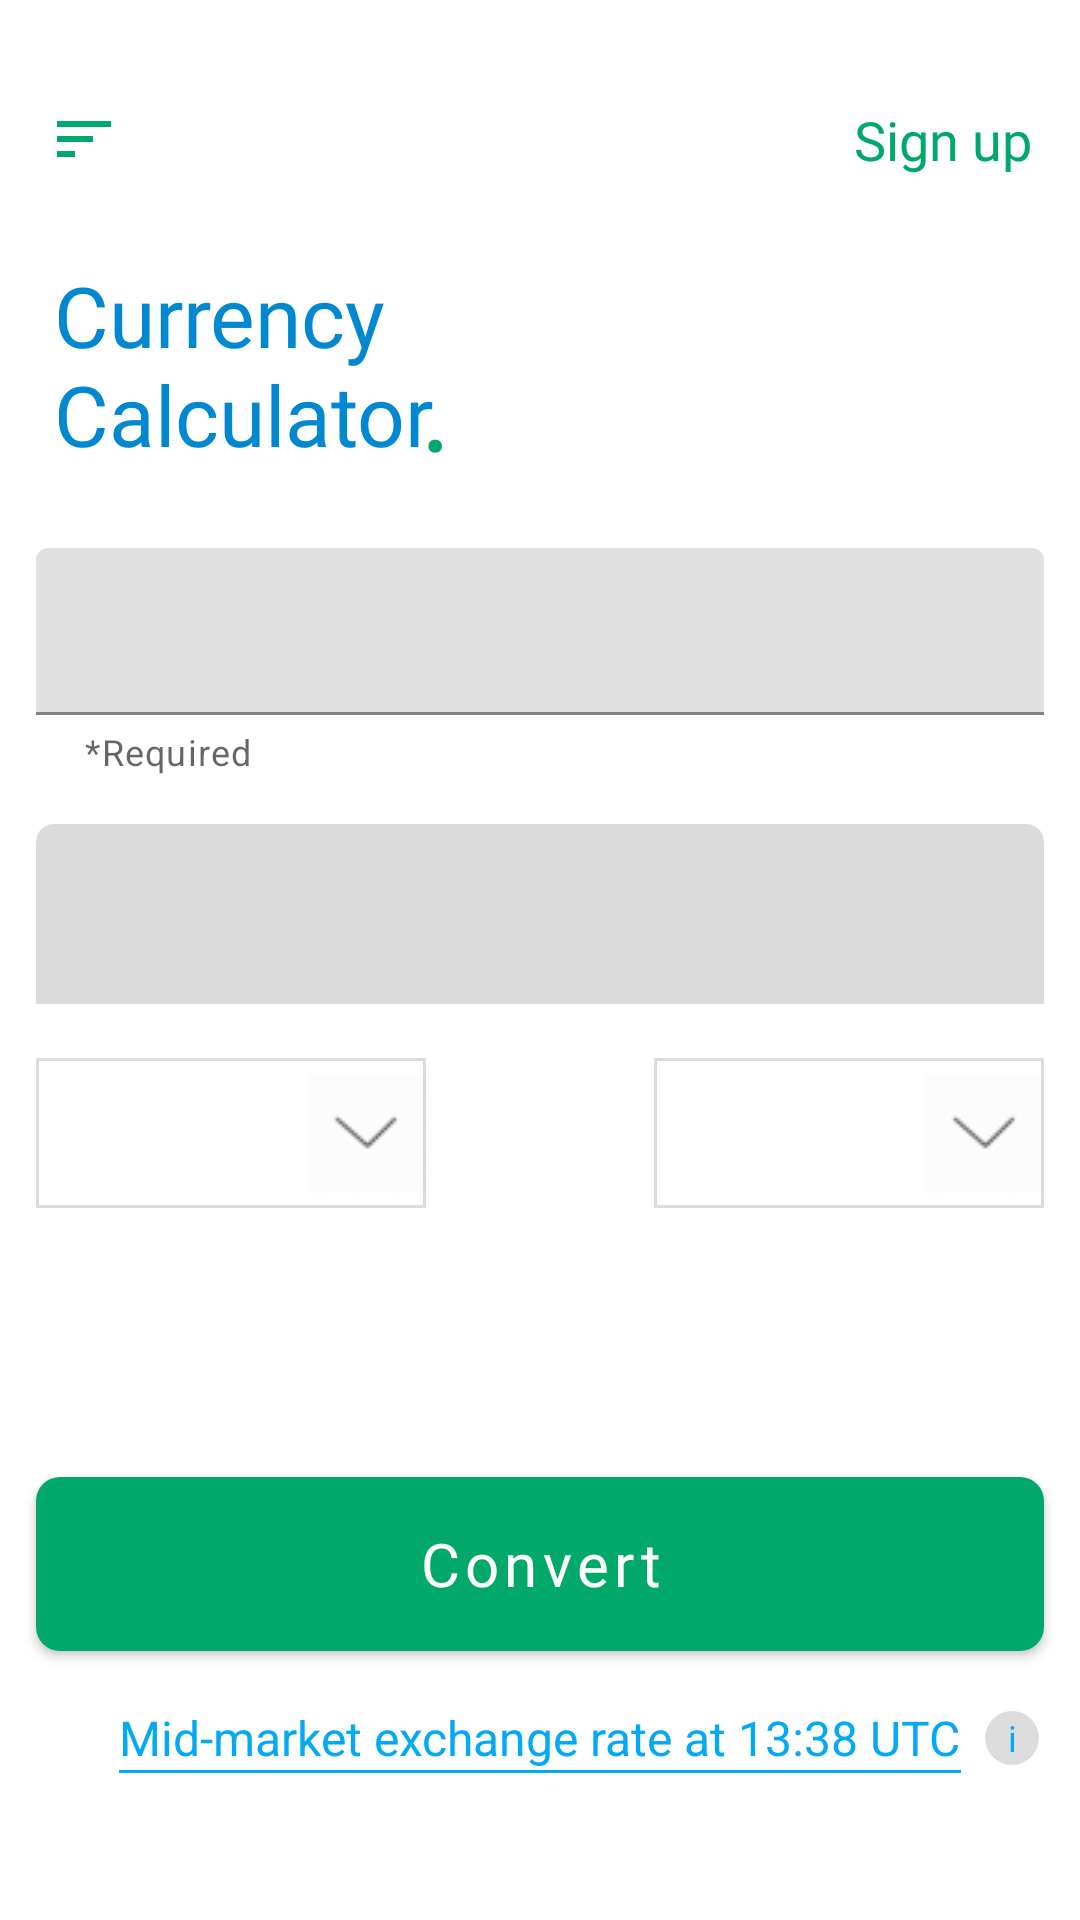

Icon click points for this 1080x1920 phone screenshot, format [x,y]:
Sort Icon: [84,139]
